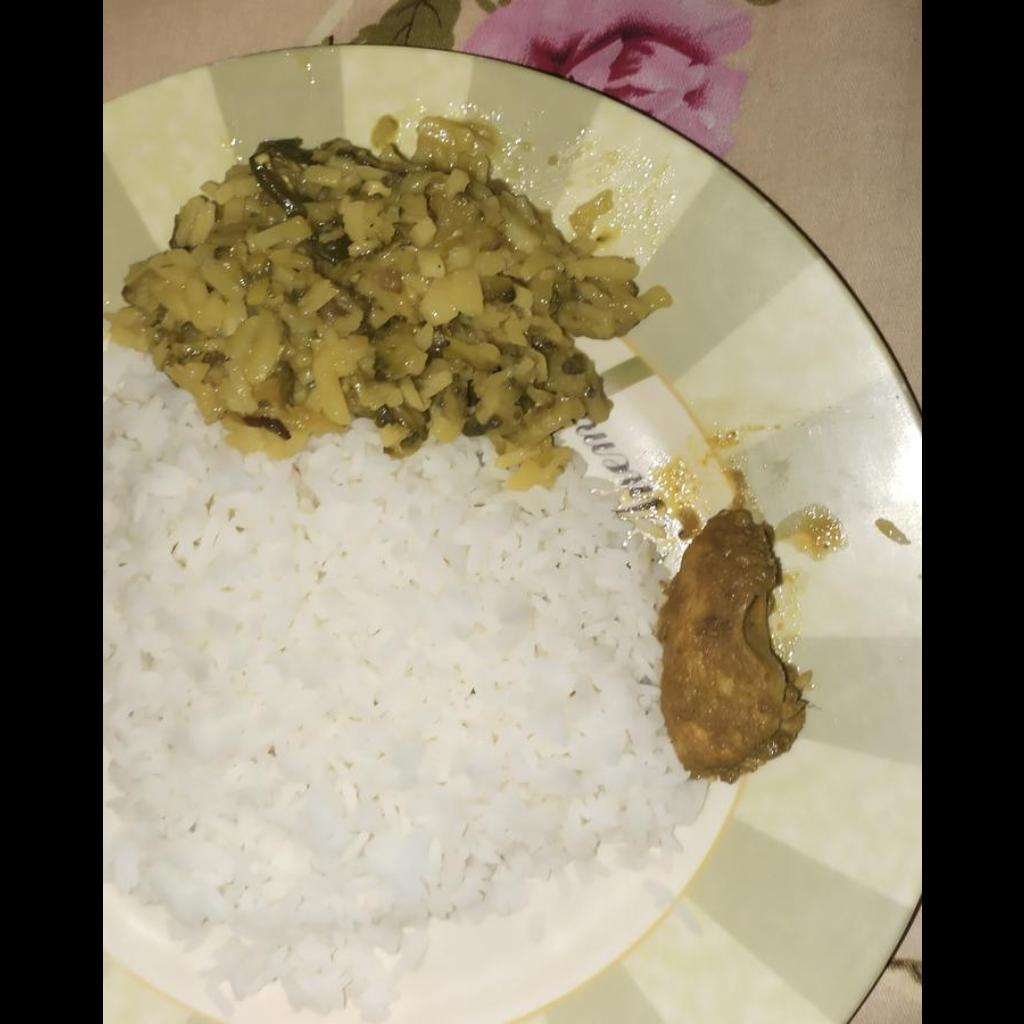chicken: (653, 511, 805, 779)
rice: (102, 348, 712, 1022)
vaji: (106, 117, 672, 480)
